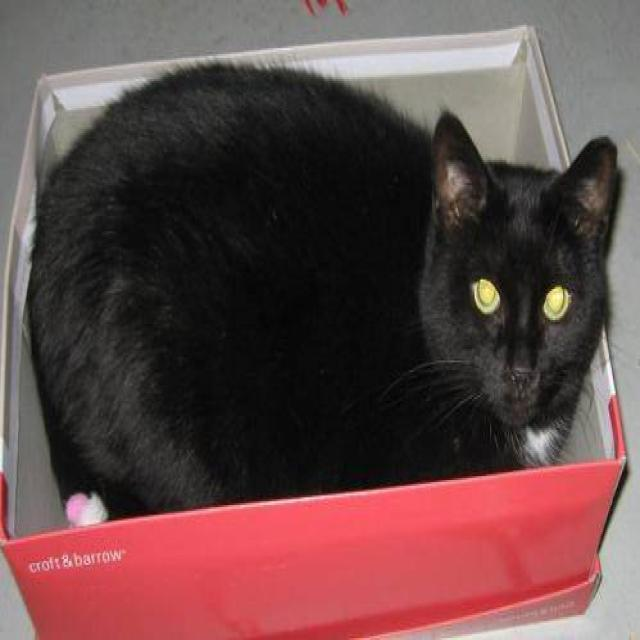cat: (23, 60, 621, 526)
